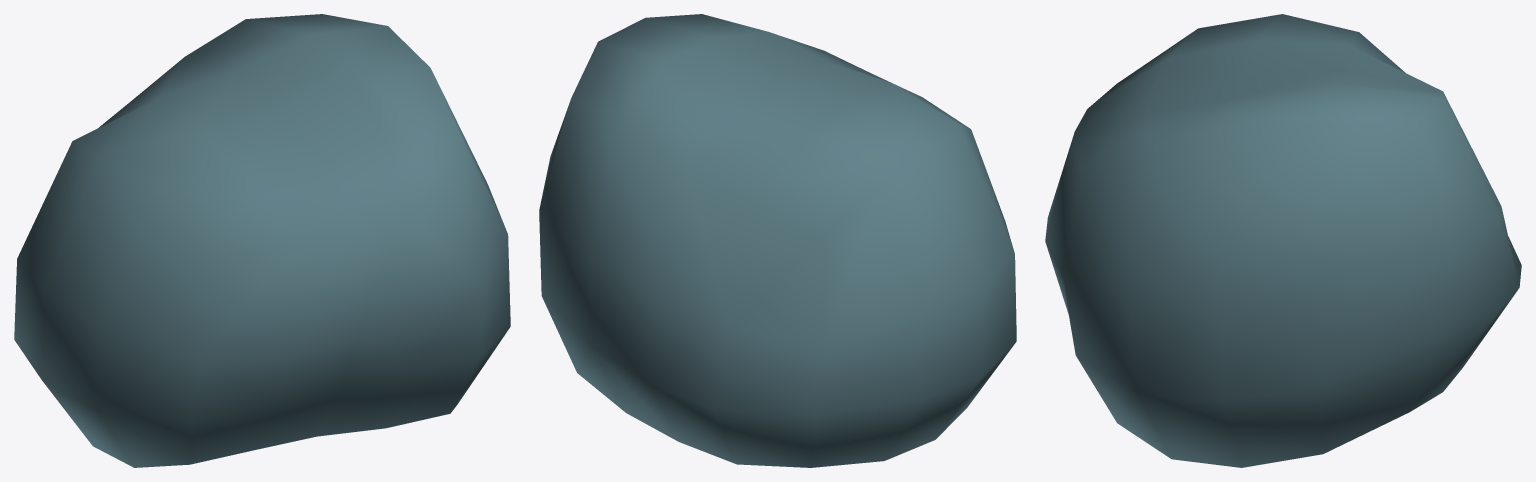
File: Rock_C_03_LOD2.gltf
The picture shows the model from 3 angles, left to right: view 1: azimuth 30°, elevation 25°; view 2: azimuth 150°, elevation 25°; view 3: azimuth 270°, elevation 25°; orthographic projection. The views are drawn at different scales.
Parts seen in each view (by area): view 1: Rock_C_03_LOD2_Cube.762; view 2: Rock_C_03_LOD2_Cube.762; view 3: Rock_C_03_LOD2_Cube.762.
Part boxes in pixels (x1,y1,x2,y2): Rock_C_03_LOD2_Cube.762: [14, 14, 510, 467]; Rock_C_03_LOD2_Cube.762: [539, 14, 1016, 467]; Rock_C_03_LOD2_Cube.762: [1045, 14, 1521, 467].
Bounding box in the file's own units: 4.42 × 3.46 × 4.22.
Materials: 1 (1 with a texture image).
